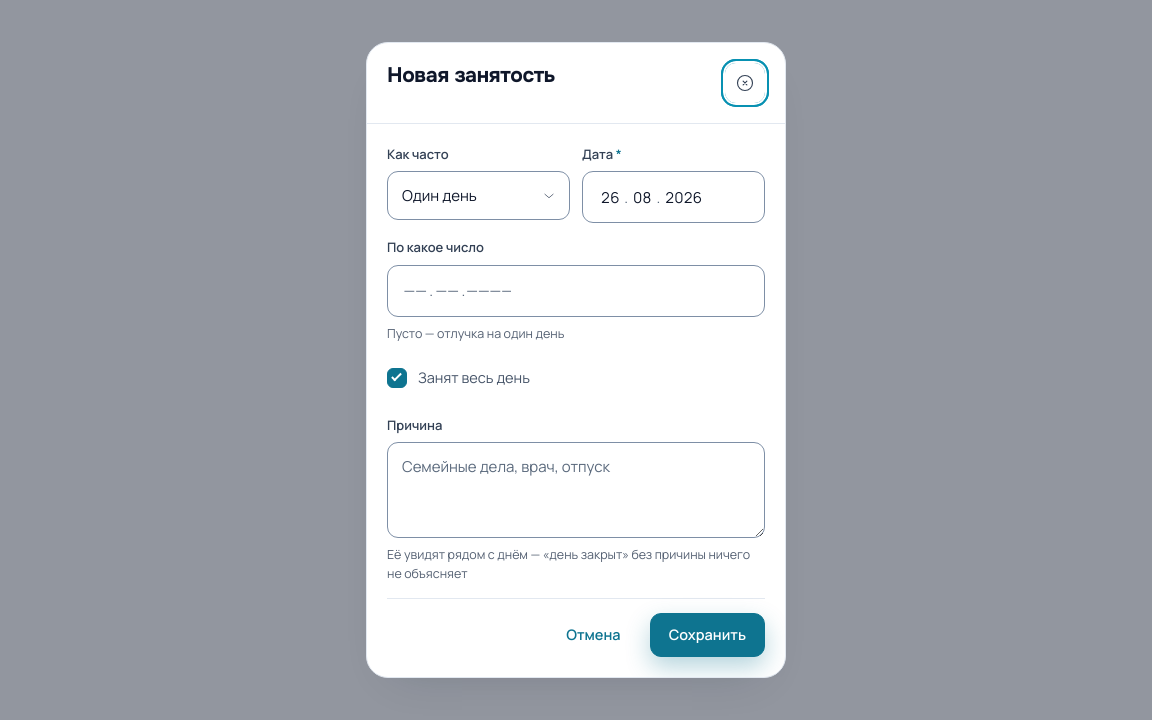
Test: Окно занятости › успех подтверждается словами, а не молчаливым закрытием
This screenshot has width=1152, height=720.
Click the button "Сохранить": [707, 635] box [650,613,765,657]
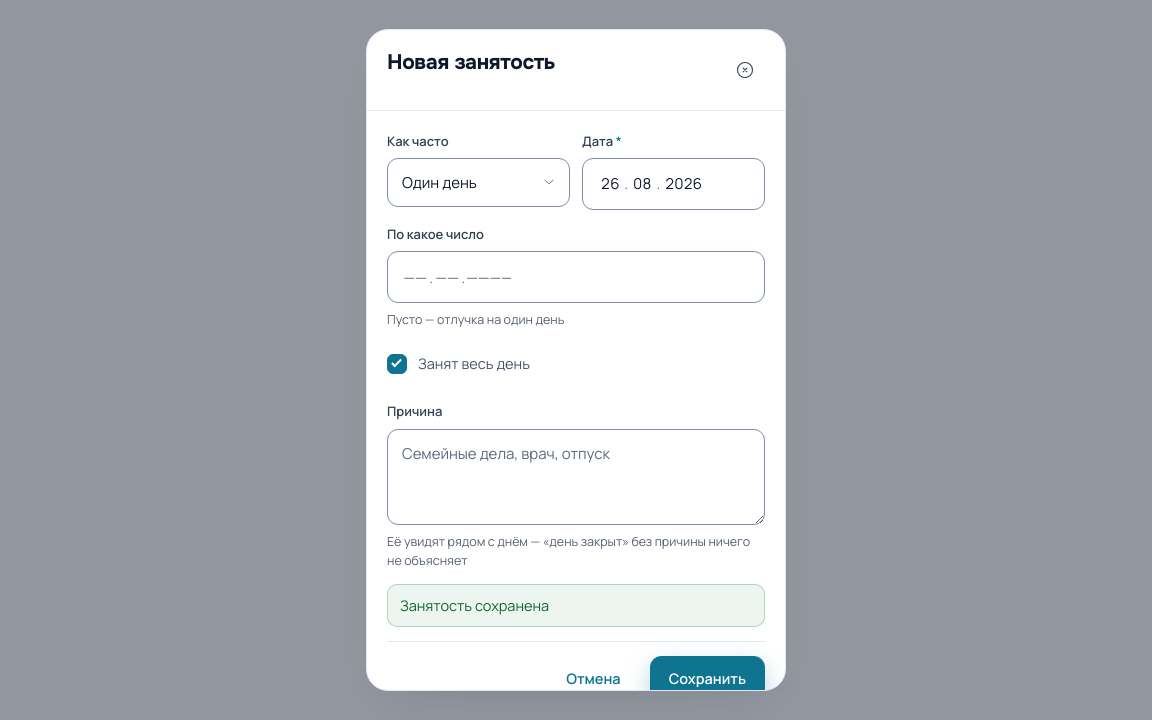
Expected: the text "Занятость сохранена" is shown, [387,584,765,627]
